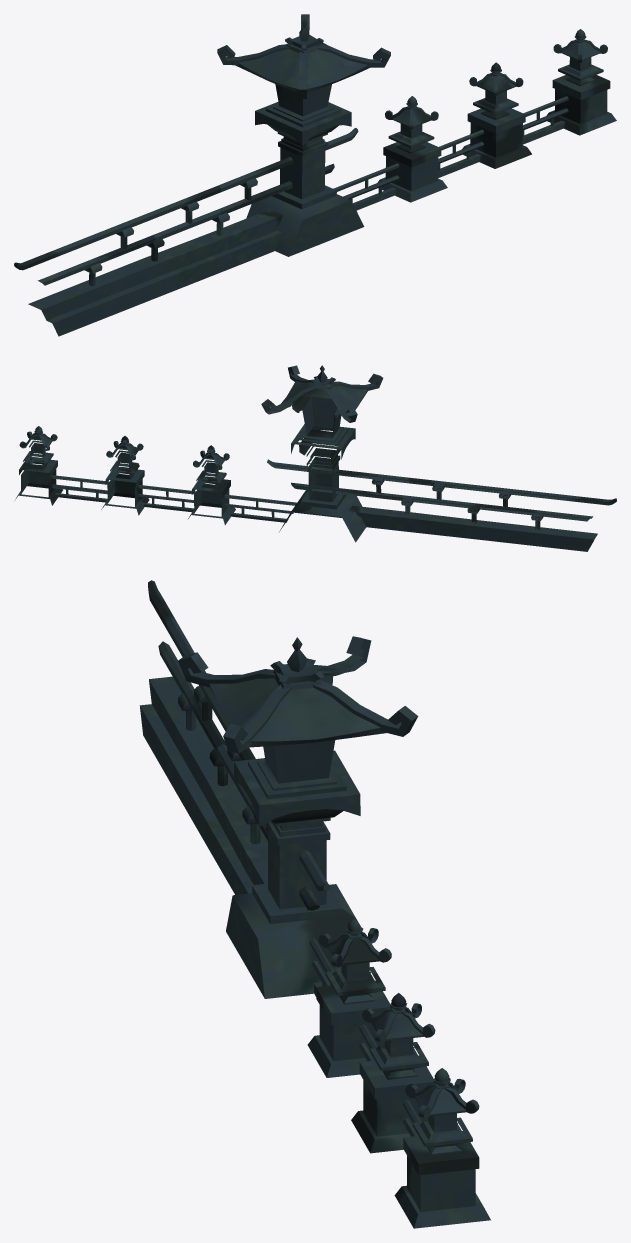
3 views of the same model, one above another, from view 1: azimuth 30°, elevation 25°; view 2: azimuth 150°, elevation 25°; view 3: azimuth 270°, elevation 25° (orthographic). The views are drawn at different scales.
Parts seen in each view (by area): view 1: Mesh_0010; view 2: Mesh_0010; view 3: Mesh_0010.
Boxes of the visible parts, <box> form: Mesh_0010: <box>14,14,616,336</box>; Mesh_0010: <box>15,365,616,551</box>; Mesh_0010: <box>139,580,490,1228</box>.
Size of the model in its own units: 12197 by 3654 by 3528.
